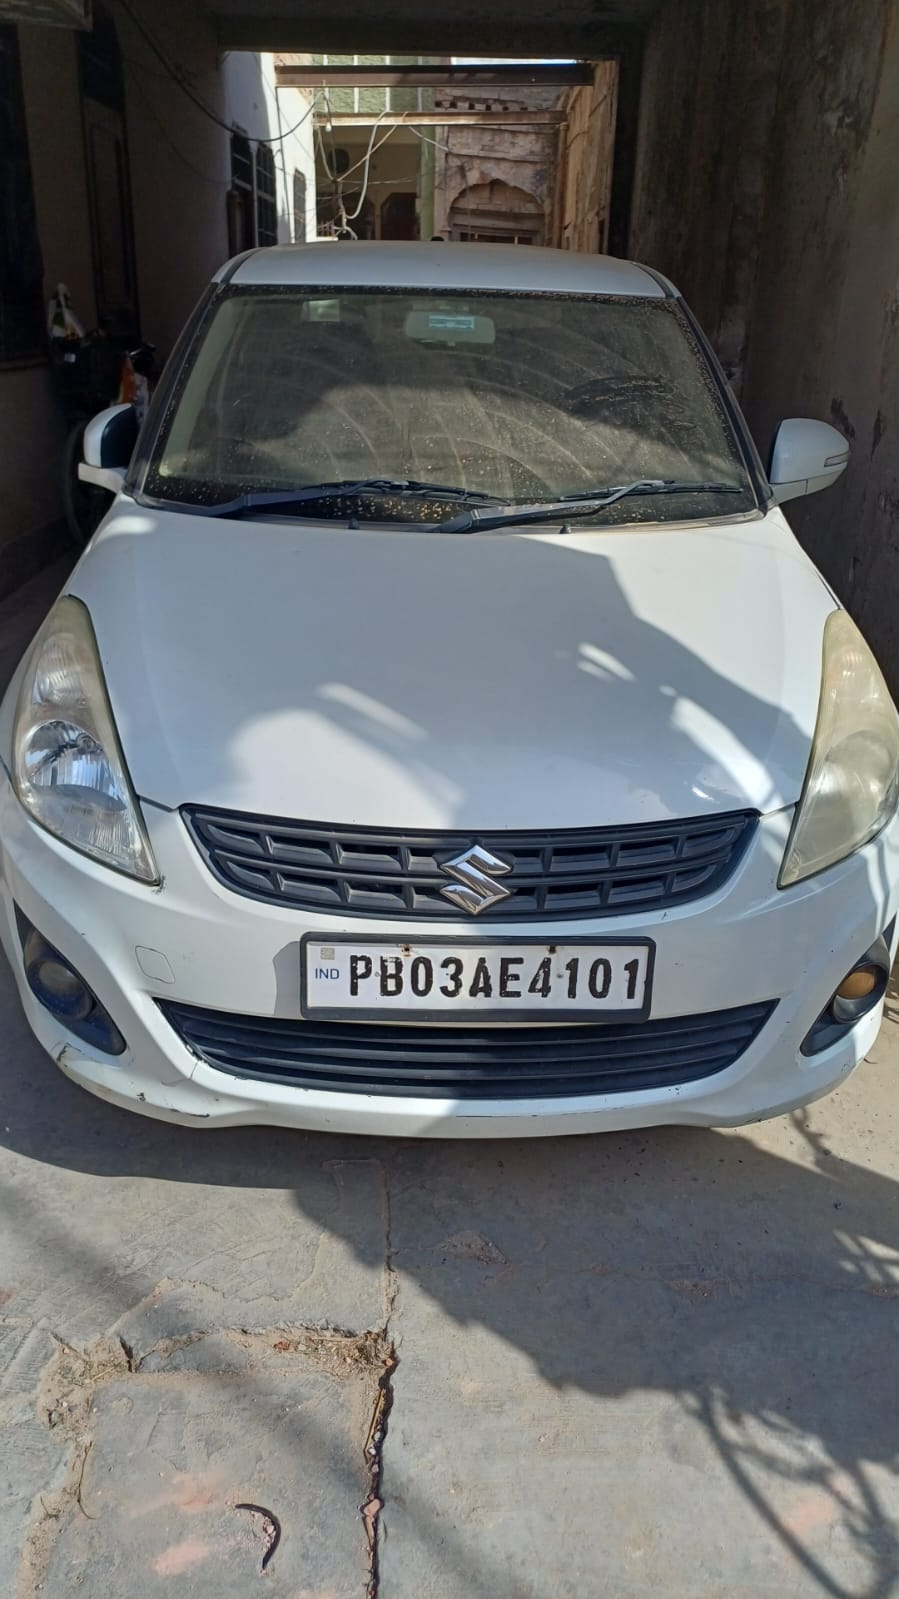license plate: (303, 934, 653, 1021)
